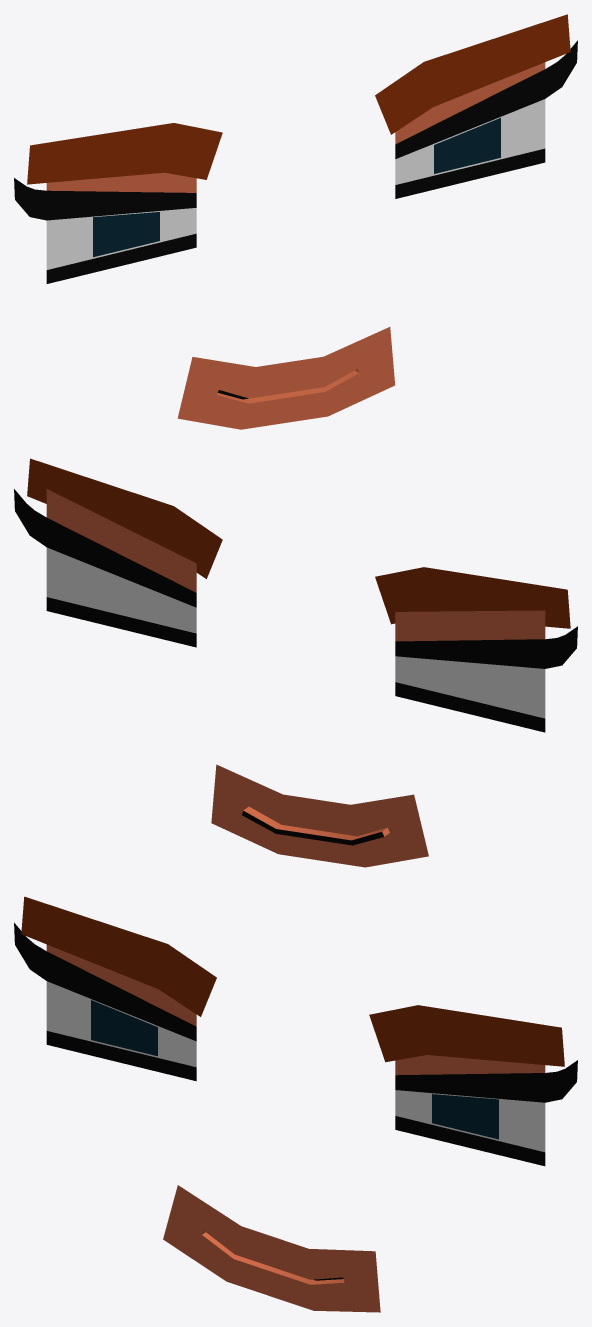
The model's file is Face Female 07.FBX.
The picture shows the model from 3 angles, top to bottom: view 1: azimuth 30°, elevation 25°; view 2: azimuth 150°, elevation 25°; view 3: azimuth 330°, elevation 25°; orthographic projection.
Visible parts, largest first — view 1: Face Female 07; view 2: Face Female 07; view 3: Face Female 07.
Part boxes in pixels (left/top/right/bottom): Face Female 07: left=14, top=14, right=577, bottom=429; Face Female 07: left=14, top=458, right=577, bottom=867; Face Female 07: left=14, top=896, right=577, bottom=1312.
Size of the model in its own units: 44.85 by 25.8 by 1.01.
1 material, 1 textured.
